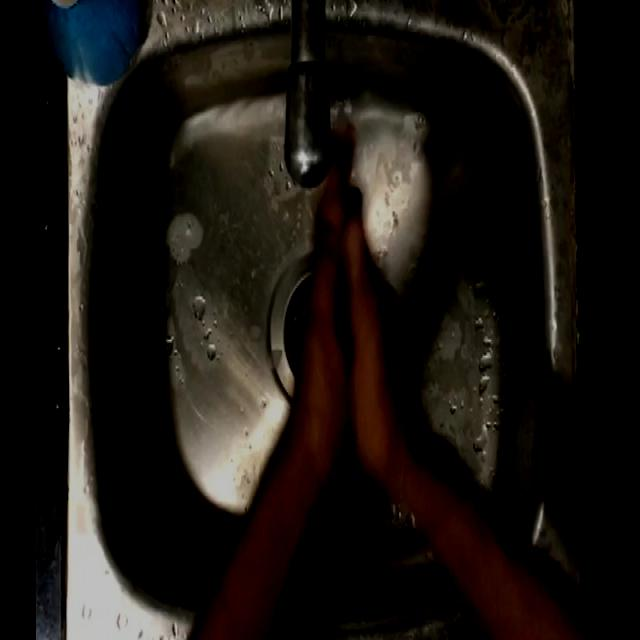step_1: (290, 114, 408, 458)
